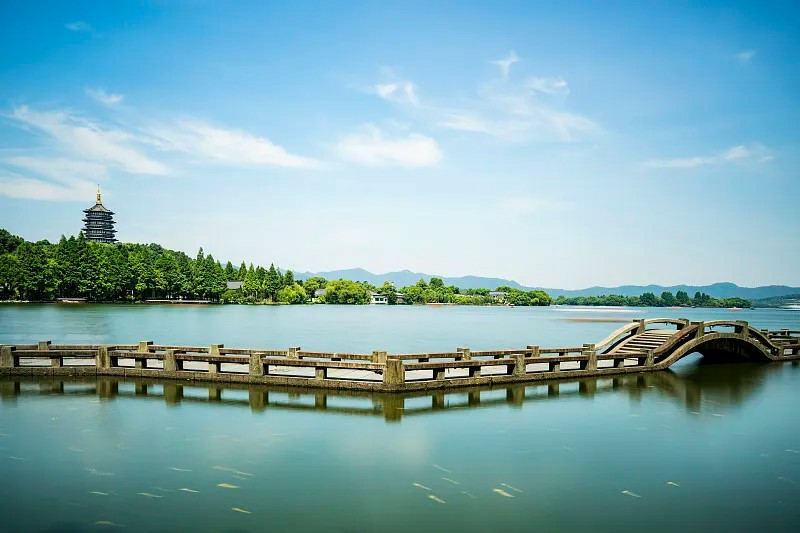Leifeng: (79, 183, 119, 246)
